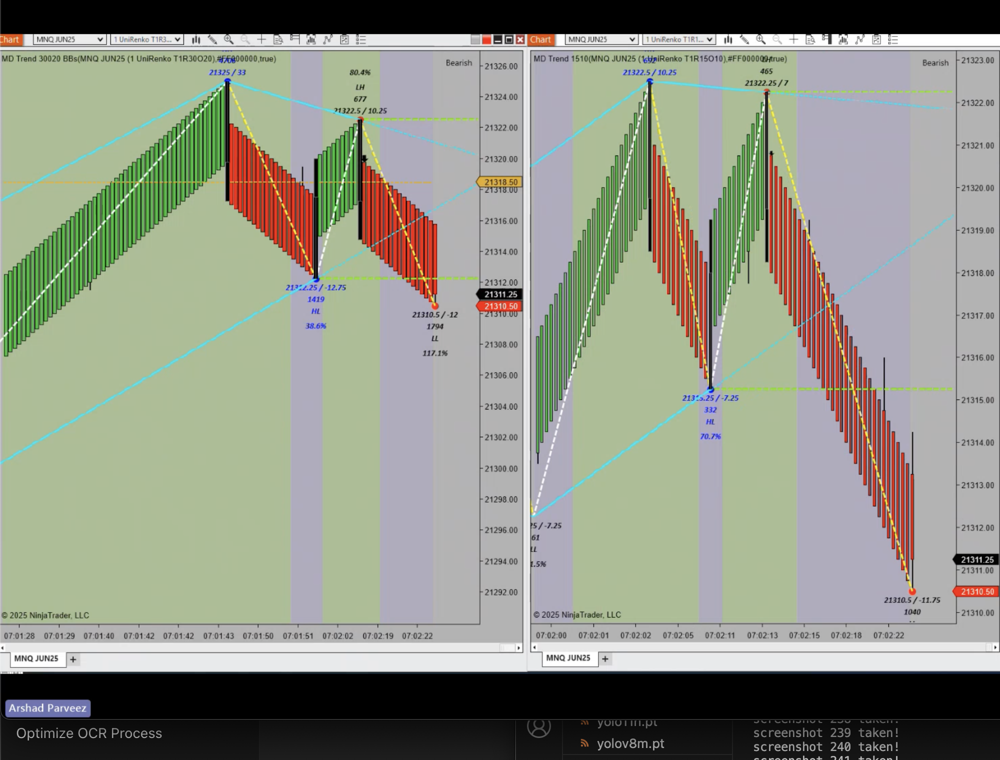HL: (701, 409, 727, 432), (303, 300, 328, 319)
LH: (347, 79, 374, 98)
LL: (424, 326, 449, 347), (524, 540, 542, 557)
